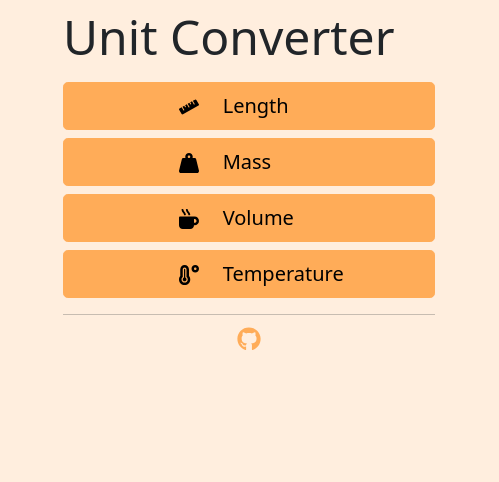
Test: back button works
// Test with only one unit category
Click the button "Length" at coordinates (249, 106), box [63,82,435,130]
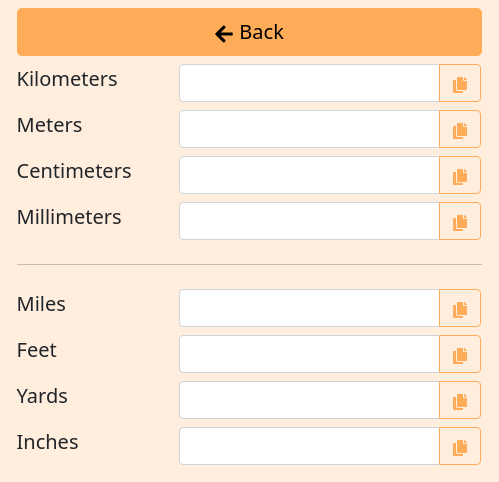
Click the button "Back" at coordinates (249, 32), box [16,8,482,56]
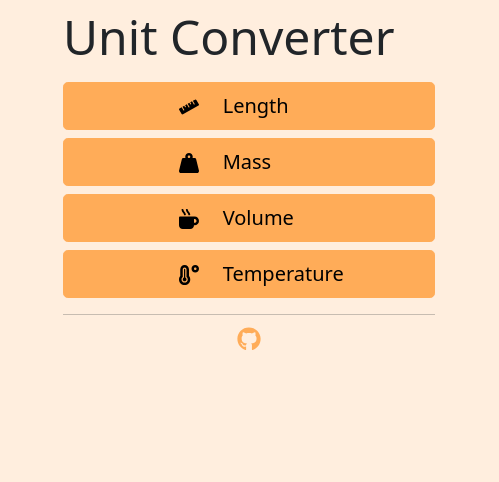
Result: the heading "Unit Converter" is shown at [63,8,435,66]
